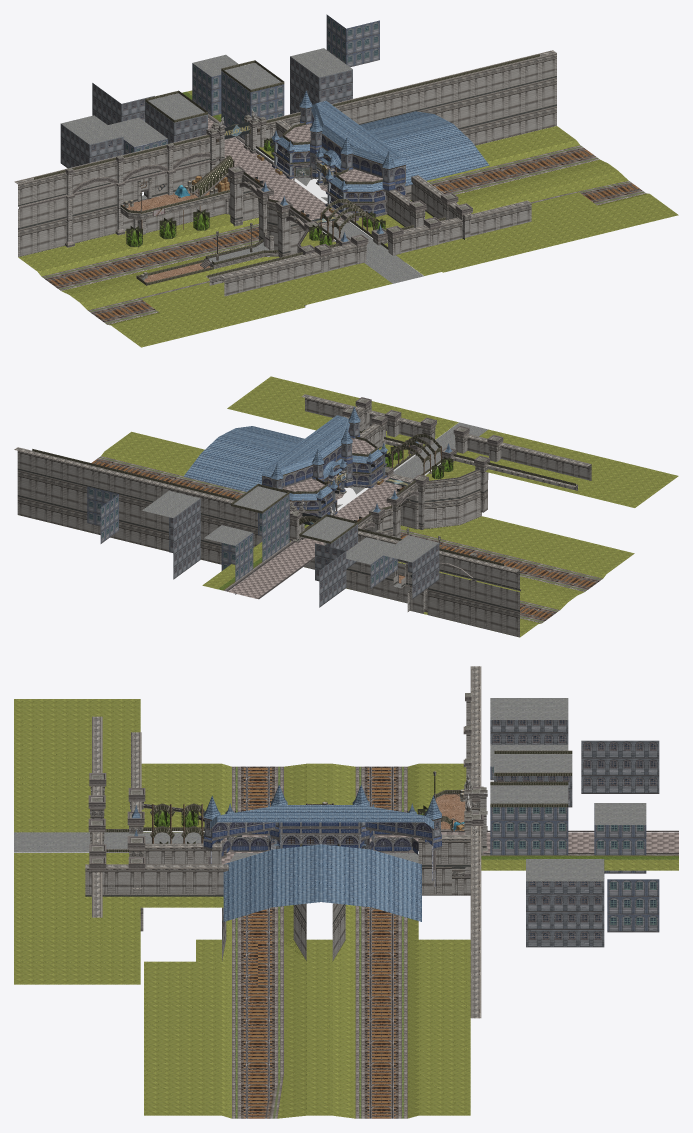
Rendered from StationStreet.glb.
3 views of the same model, one above another, from view 1: azimuth 30°, elevation 25°; view 2: azimuth 150°, elevation 25°; view 3: azimuth 270°, elevation 25° (orthographic). The views are drawn at different scales.
Visible parts, largest first — view 1: StationStreet; view 2: StationStreet; view 3: StationStreet.
Boxes of the visible parts, x1,y1,x2,y2 form: StationStreet: (14, 14, 678, 347); StationStreet: (14, 376, 678, 637); StationStreet: (14, 666, 678, 1118).
Bounding box in the file's own units: 128 × 25.53 × 102.
19 materials, 18 textured.
